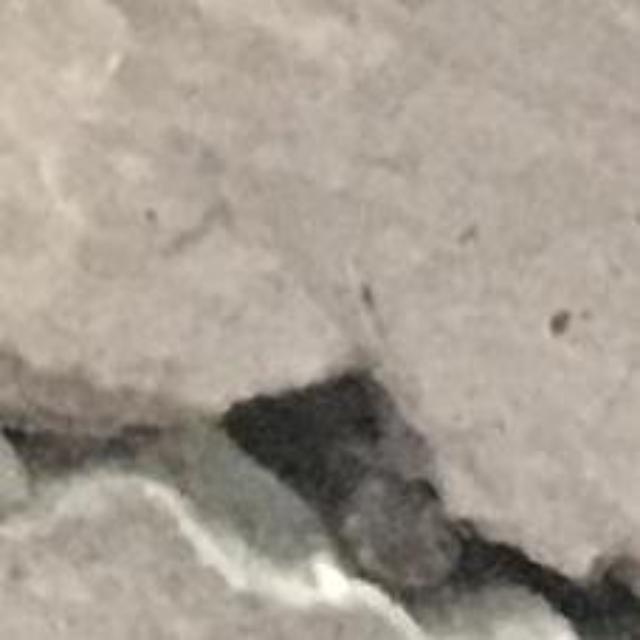crack: (0, 353, 639, 639)
